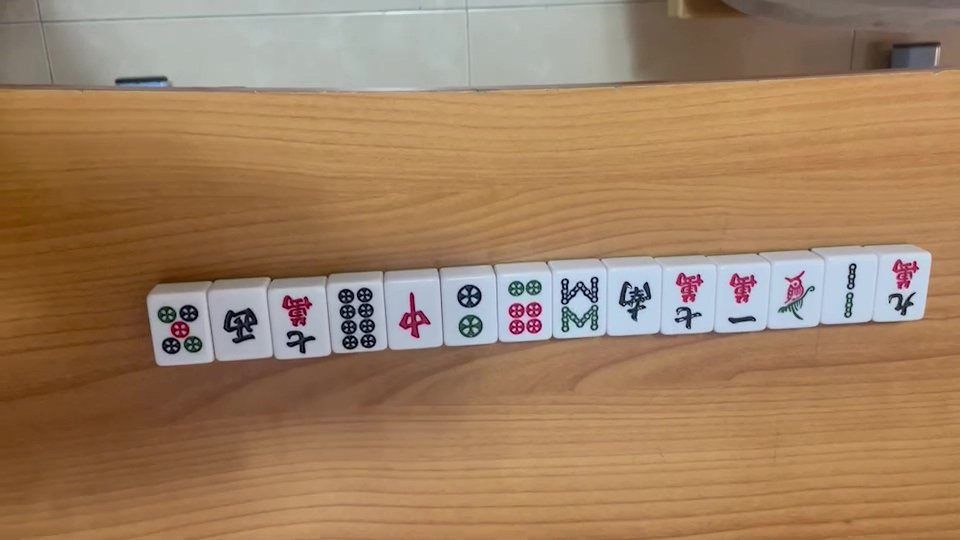b-1: (776, 269, 815, 321)
b-2: (840, 262, 861, 318)
b-8: (558, 274, 600, 334)
c-1: (724, 267, 760, 329)
c-7: (275, 292, 320, 356), (667, 270, 707, 331)
c-9: (886, 256, 925, 318)
d-2: (451, 282, 486, 338)
d-5: (155, 304, 204, 359)
d-6: (505, 278, 545, 339)
d-8: (336, 287, 380, 351)
honors-red: (391, 290, 434, 342)
honors-south: (615, 280, 653, 326)
honors-west: (215, 305, 262, 348)
